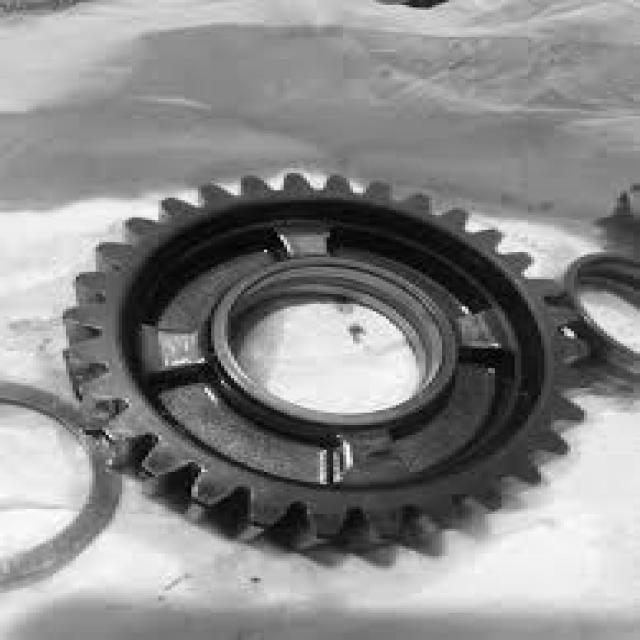Fault-Exist: (37, 94, 612, 598)
